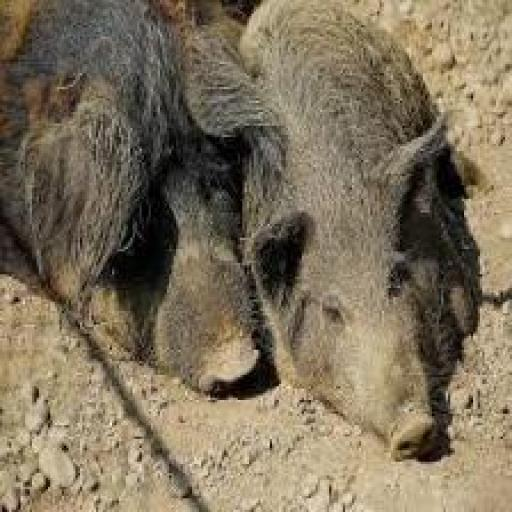Pig: (169, 0, 489, 466), (0, 0, 291, 408)
